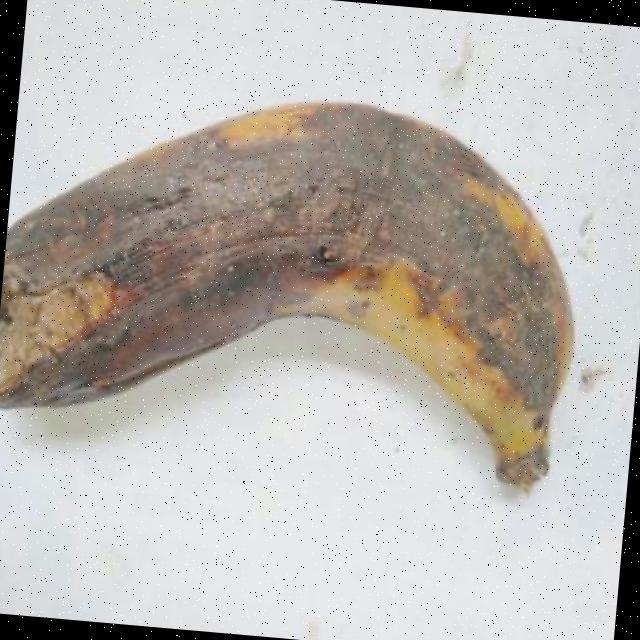Rotten: (0, 39, 619, 527)
